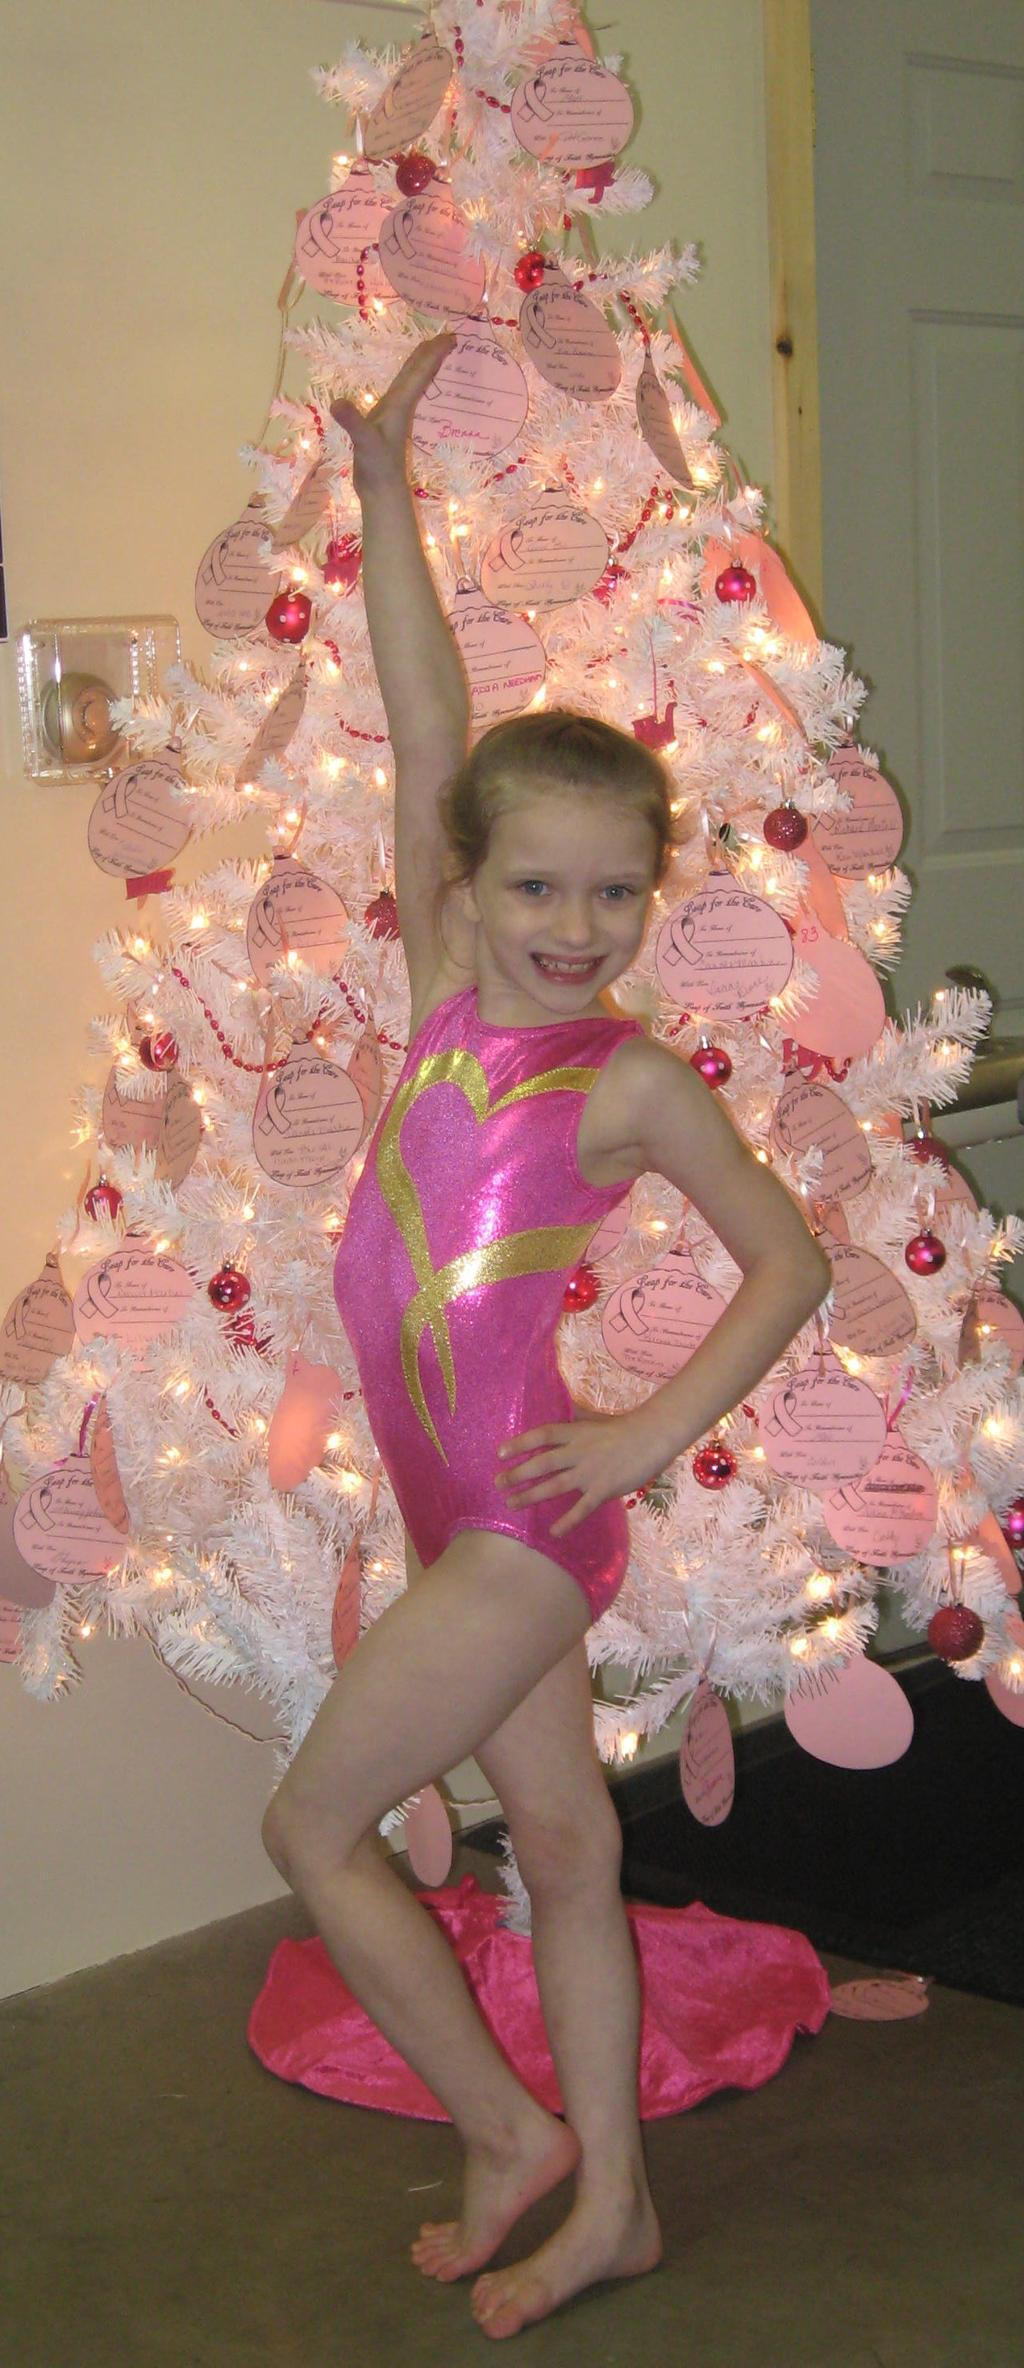face: (478, 756, 654, 997)
